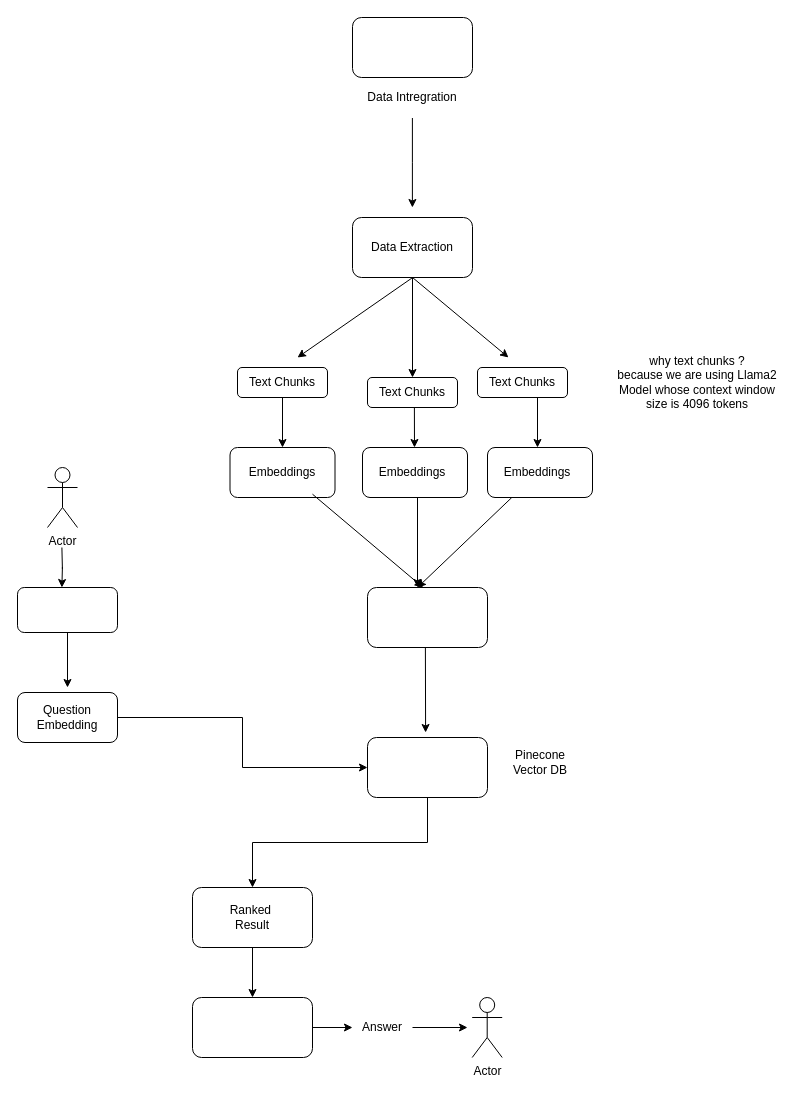
Some shapes in this 805 by 1096 pixel diagram are drawn without their labels. Here are the shapes that lost their labels. From the top down, the box of each, then its label:
(352, 16, 472, 78): PDF File (Medical Book)
(16, 586, 118, 632): Query
(366, 586, 488, 648): Semantic Index
(366, 736, 488, 798): Knowledge Base
(192, 996, 312, 1058): Llama2 LLM
